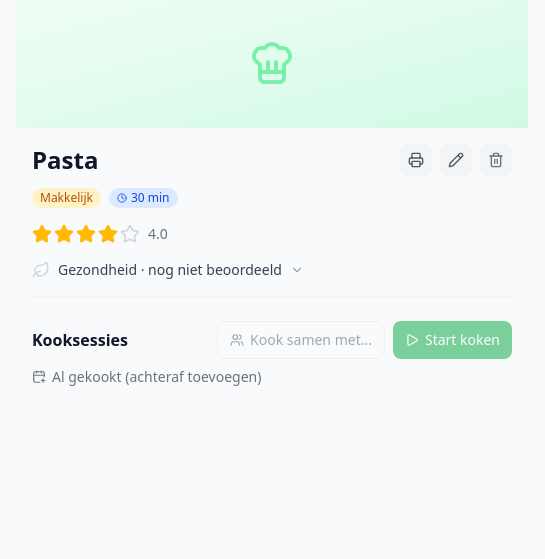
Test: RecipeDetail healthiness › runs a review on demand and shows the new score
The image size is (545, 559).
Expected: the heading "Pasta" is shown, [32, 144, 98, 176]
Click the button "Gezondheid · nog niet beoordeeld". click: (168, 270)
box: [32, 260, 304, 280]
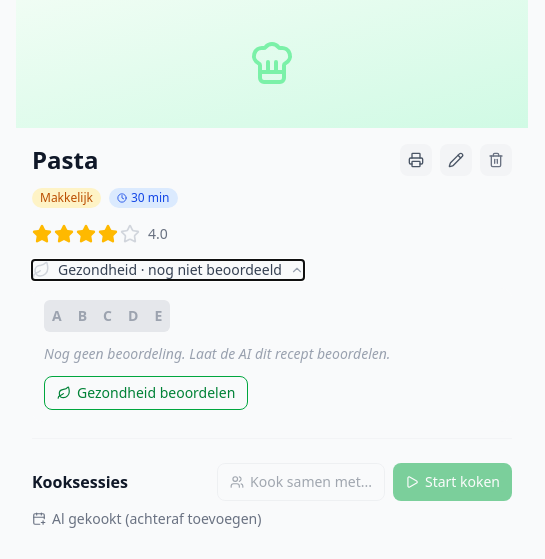
Click the button "Gezondheid beoordelen". click: (146, 393)
box: [44, 376, 248, 410]
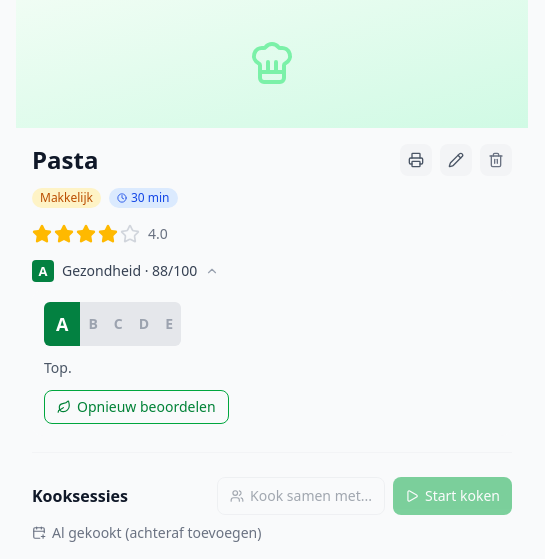
Now the text "Gezondheid · 88/100" is shown, box [62, 261, 197, 281]
